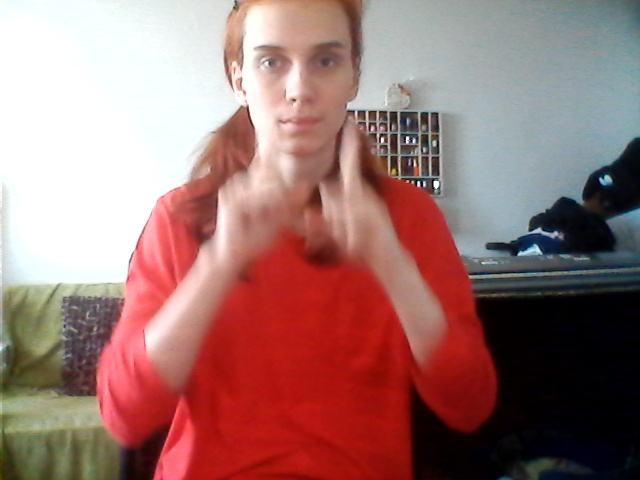h: (230, 111, 388, 242)
